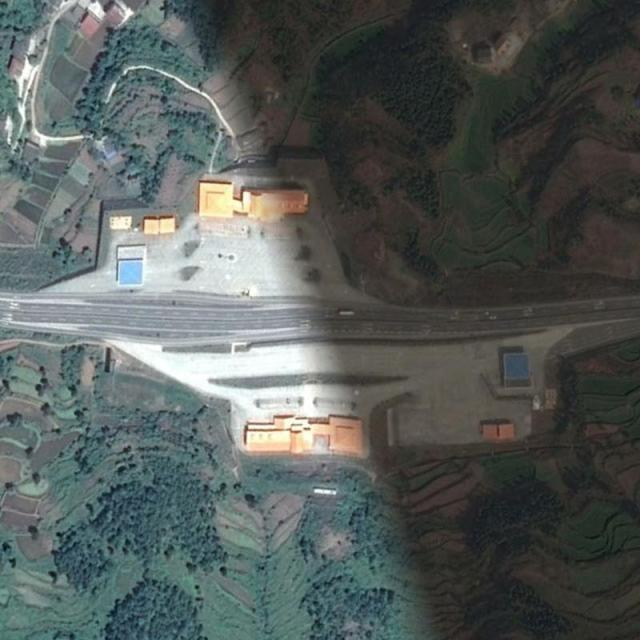vehicle: (339, 310, 355, 315)
